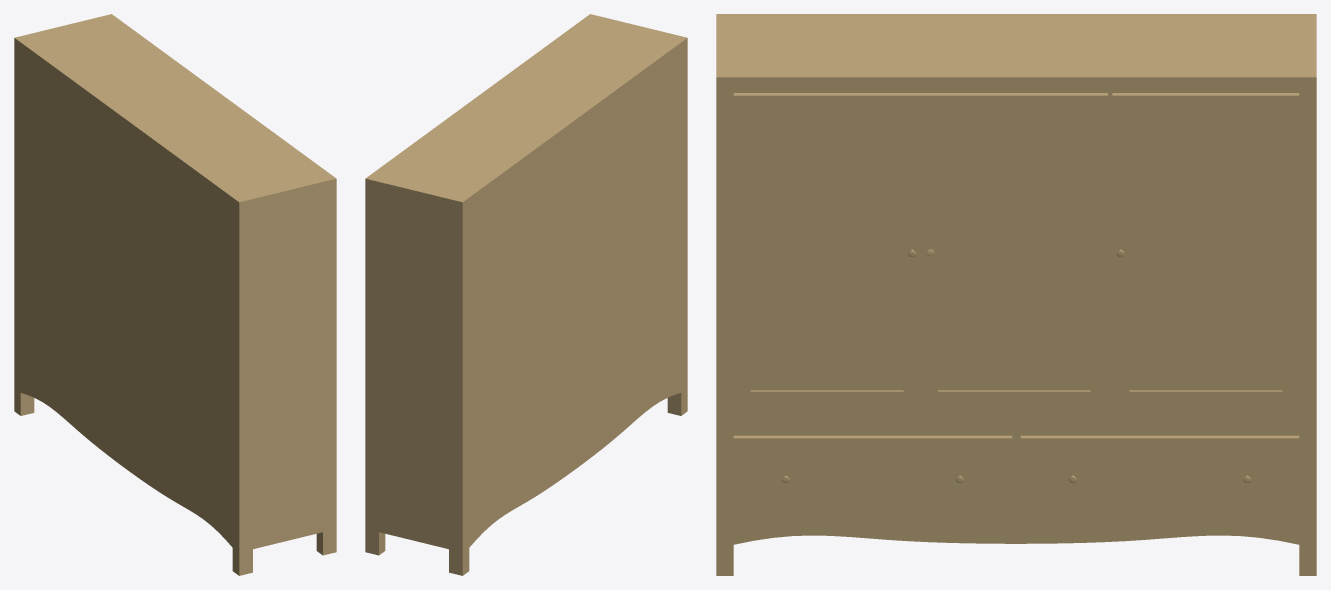
Rendered from Furniture - Wardrobe  .fbx.
3 renders of one model, left to right at view 1: azimuth 30°, elevation 25°; view 2: azimuth 150°, elevation 25°; view 3: azimuth 270°, elevation 25°, orthographic. The views are drawn at different scales.
Parts seen in each view (by area): view 1: Wardrobe body; view 2: Wardrobe body; view 3: Wardrobe body, Wardrobe D1-R, Wardrobe D3-R, Wardrobe D2-L, Wardrobe drawer 2-L, Wardrobe drawer 1-R.
Part boxes in pixels (x1,y1,x2,y2): Wardrobe body: (14,14,336,575); Wardrobe body: (365,14,687,575); Wardrobe body: (716,14,1316,575); Wardrobe D1-R: (920,93,1107,407); Wardrobe D3-R: (1112,93,1299,407); Wardrobe D2-L: (733,93,920,407); Wardrobe drawer 2-L: (733,435,1012,516); Wardrobe drawer 1-R: (1020,435,1299,516).
Bounding box in the file's own units: 65.25 × 220 × 240.
